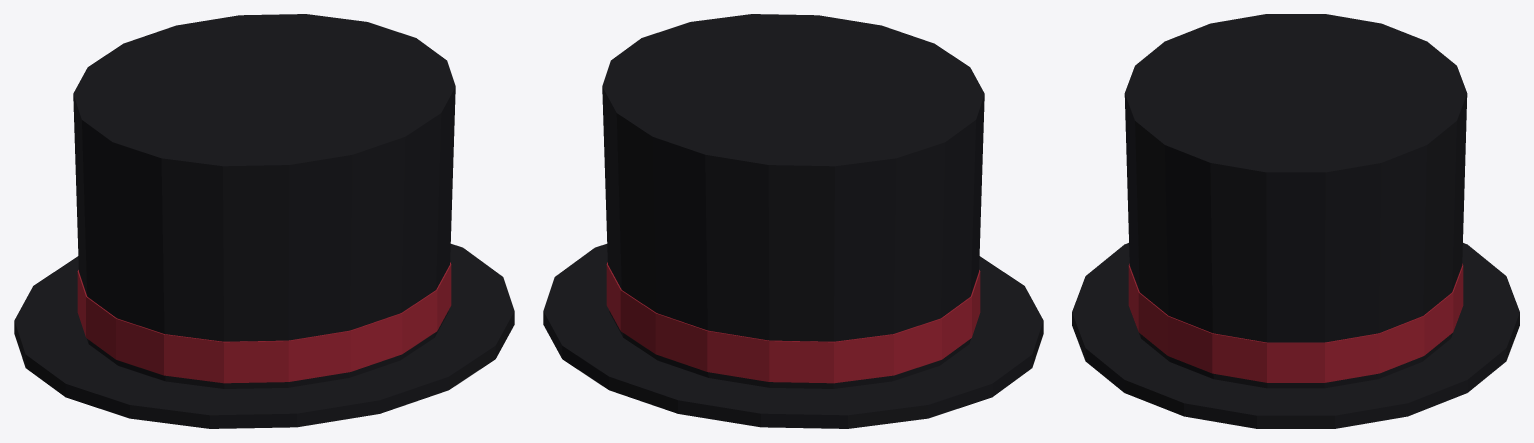
Rendered from disguise_auction_top_hat.glb.
3 renders of one model, left to right at view 1: azimuth 30°, elevation 25°; view 2: azimuth 150°, elevation 25°; view 3: azimuth 270°, elevation 25°, orthographic. The views are drawn at different scales.
Parts seen in each view (by area): view 1: crown_auction_black, brim_auction_black, band_auction_red; view 2: crown_auction_black, brim_auction_black, band_auction_red; view 3: crown_auction_black, brim_auction_black, band_auction_red.
Boxes of the visible parts, x1,y1,x2,y2 form: crown_auction_black: [73, 14, 455, 388]; brim_auction_black: [14, 244, 514, 428]; band_auction_red: [77, 262, 451, 383]; crown_auction_black: [602, 14, 984, 388]; brim_auction_black: [543, 244, 1043, 428]; band_auction_red: [606, 262, 980, 383]; crown_auction_black: [1124, 14, 1467, 388]; brim_auction_black: [1072, 243, 1519, 428]; band_auction_red: [1128, 263, 1463, 382].
Size of the model in its own units: 0.6697 by 0.35 by 0.612.
